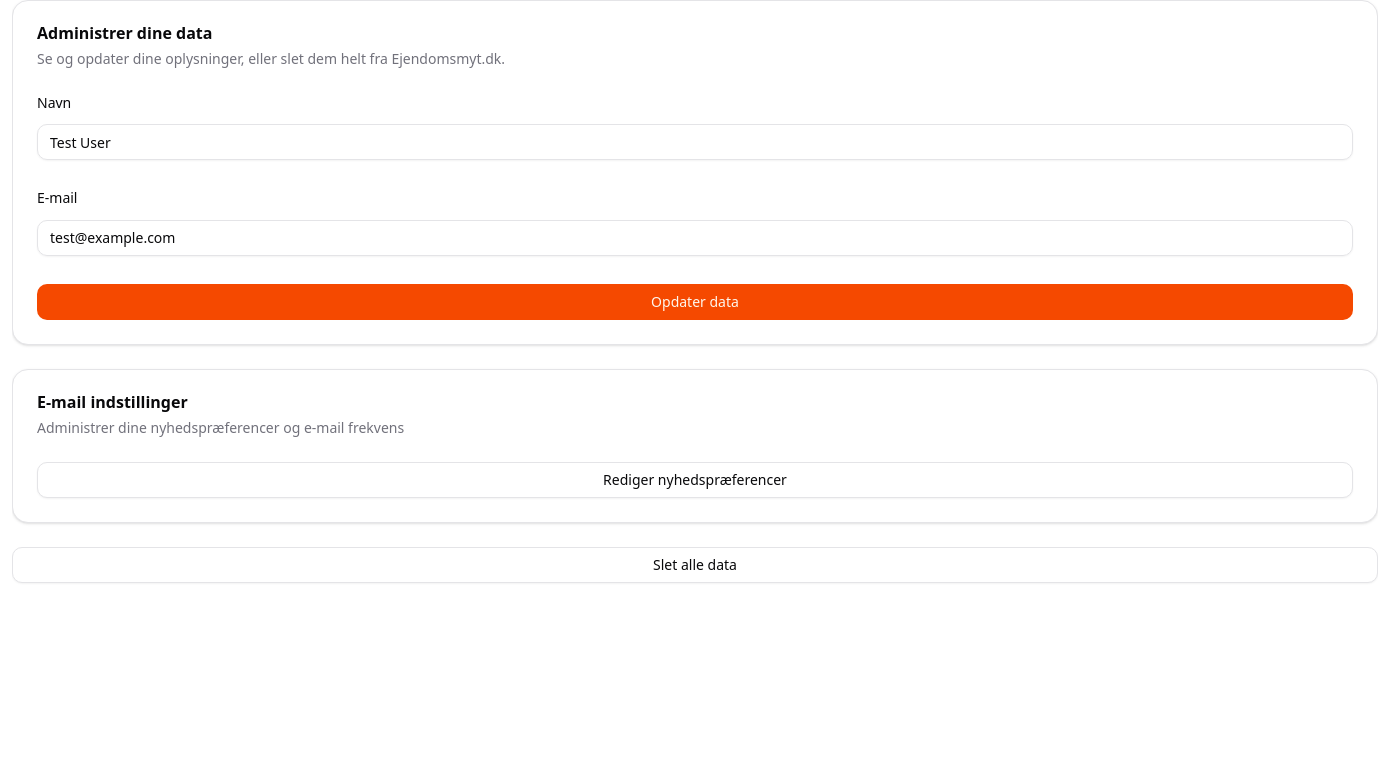
Test: ProfileForm › updates profile successfully
Replace the text in the field labelled "Navn" with "Updated Name" at point(695, 142), box [37,124,1353,160]
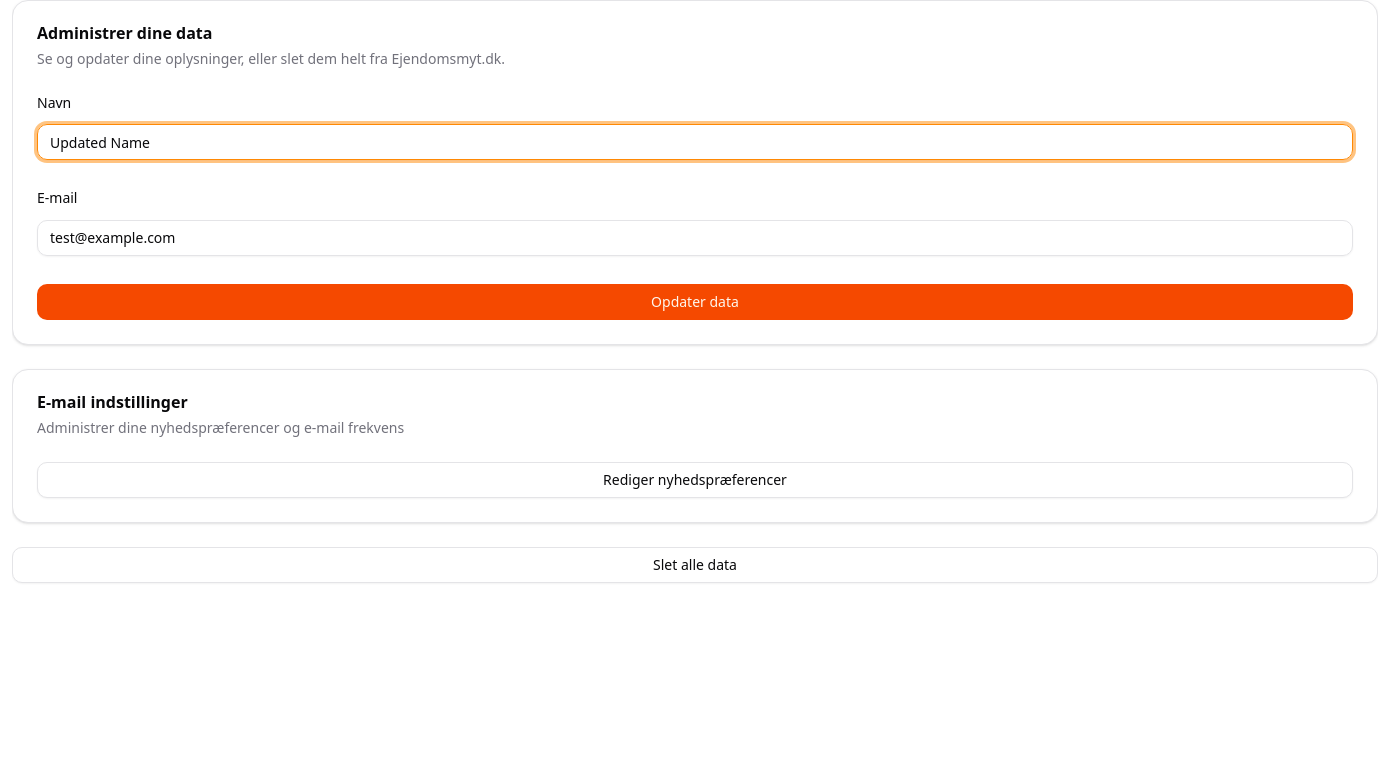
Click the button "Opdater data" at point(695, 302), box [37,284,1353,320]
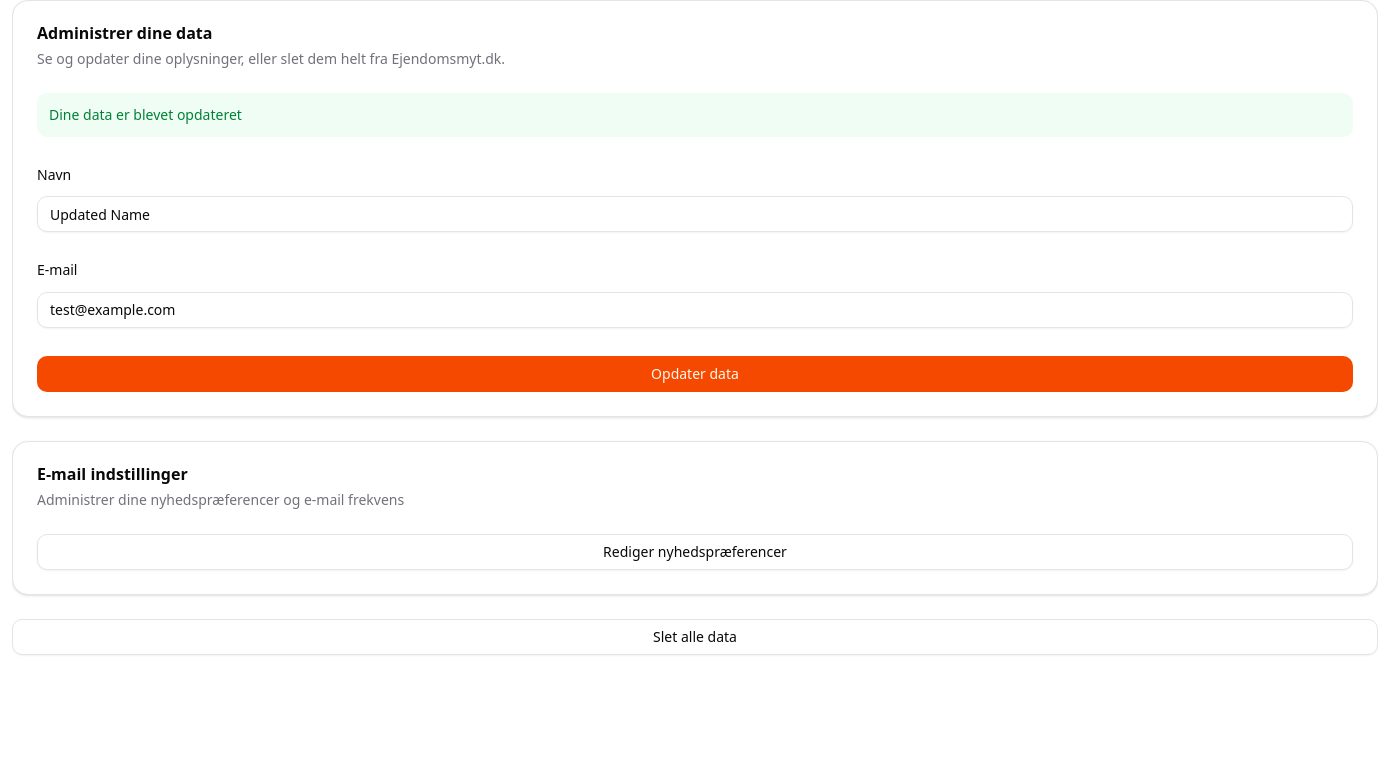
Expected: the text "Dine data er blevet opdateret" is shown, [37,93,1353,137]
